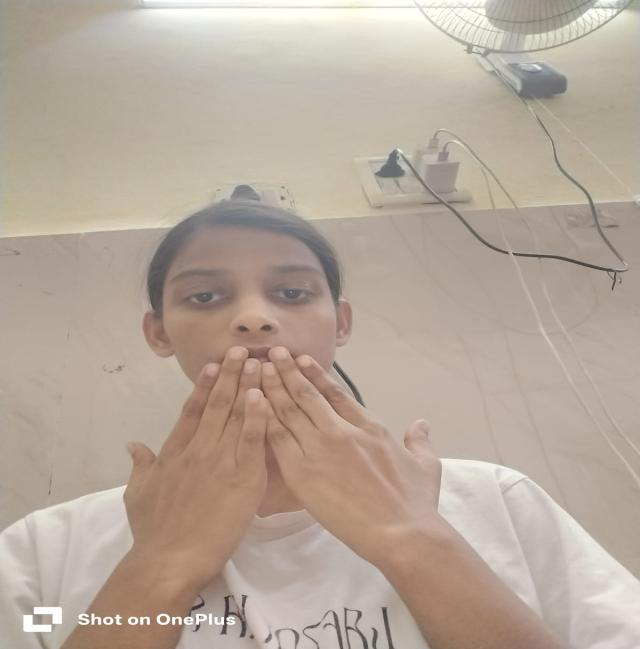Thanks: (107, 334, 464, 565)
